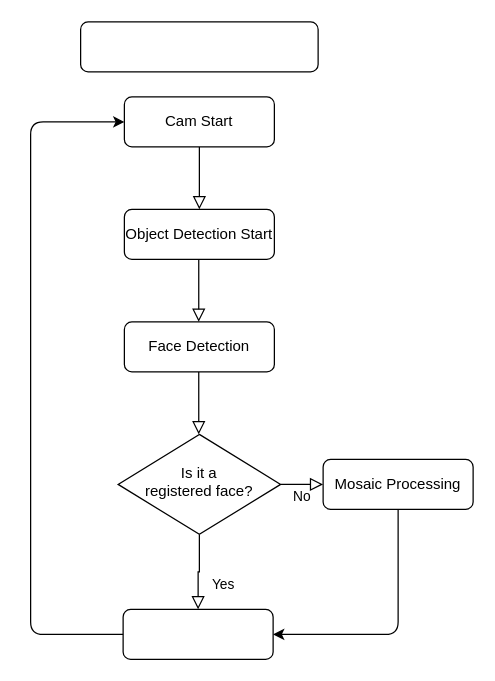
The diagram is 495 pixels wide and 681 high, and some of its shapes have lost their labels. The shapes that lost their labels are listed below. From the top down, each one's centre as x and y in pixels, then its label:
At [198,46]: "Object Face Mosaic Processing".
At [197,633]: "Image Streaming".
